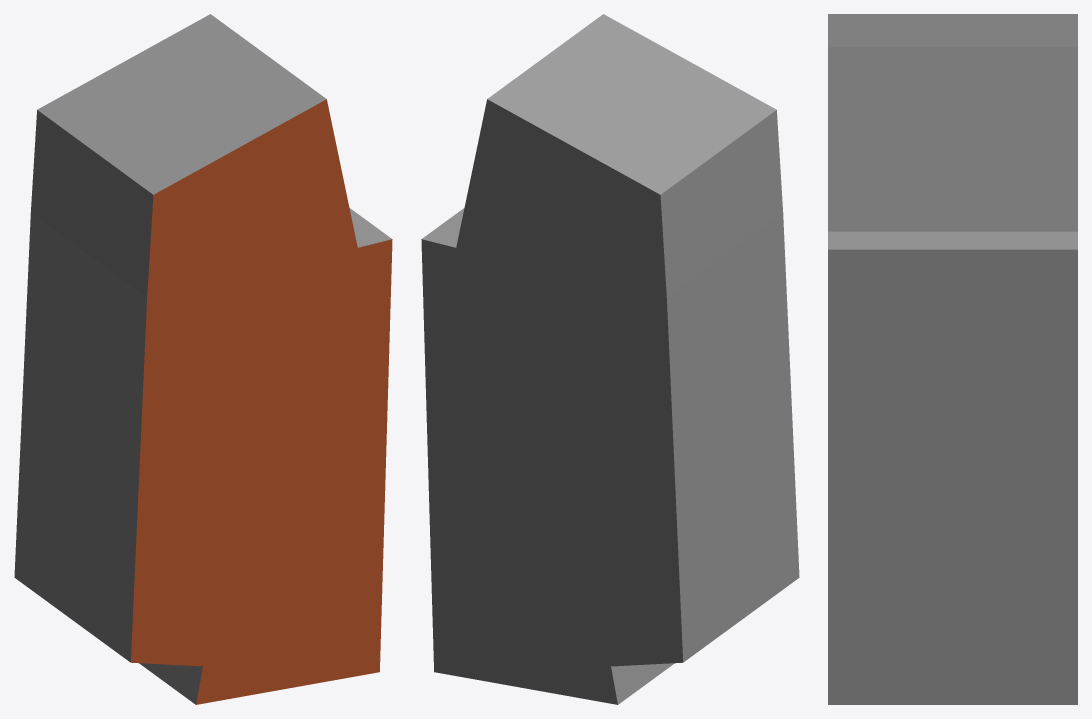
The model's file is construction_6876_assumed_A_Casa_h6m.obj.
3 views of the same model, side by side, from view 1: azimuth 30°, elevation 25°; view 2: azimuth 150°, elevation 25°; view 3: azimuth 270°, elevation 25° (orthographic). The views are drawn at different scales.
Parts seen in each view (by area): view 1: construction_6876_assumed_A_Casa; view 2: construction_6876_assumed_A_Casa; view 3: construction_6876_assumed_A_Casa.
Boxes of the visible parts, bbox=[...] form: construction_6876_assumed_A_Casa: bbox=[14, 14, 392, 704]; construction_6876_assumed_A_Casa: bbox=[421, 14, 799, 704]; construction_6876_assumed_A_Casa: bbox=[828, 14, 1077, 704].
Size of the model in its own units: 7.8 by 16.68 by 6.
